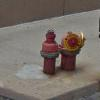Hydrant: (31, 21, 91, 82)
